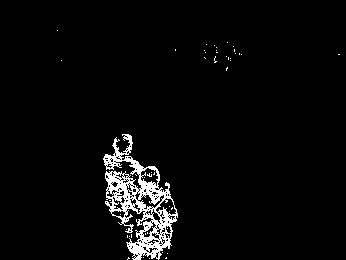person: (126, 165, 181, 260), (103, 132, 143, 241)
